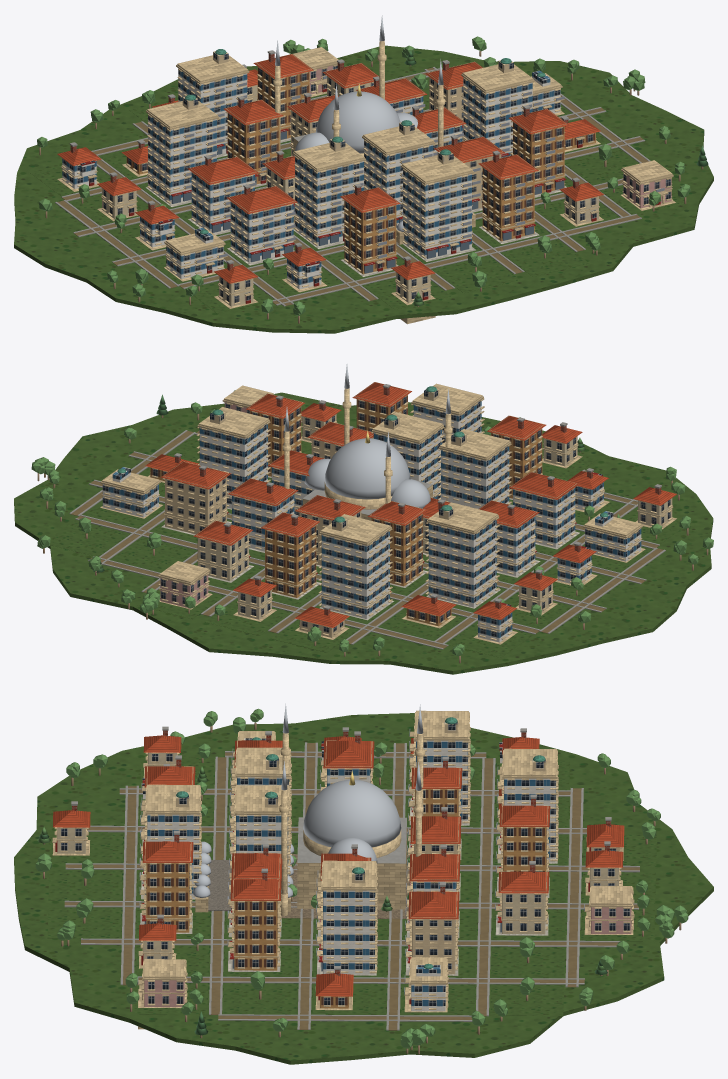
Rendered from city_orient_capital.gltf.
3 views of the same model, one above another, from view 1: azimuth 30°, elevation 25°; view 2: azimuth 150°, elevation 25°; view 3: azimuth 270°, elevation 25° (orthographic). The views are drawn at different scales.
Visible parts, largest first — view 1: city_orient_capital; view 2: city_orient_capital; view 3: city_orient_capital.
Part boxes in pixels (box(x1,y1,x2,y2)): city_orient_capital: box(14, 15, 713, 333); city_orient_capital: box(14, 364, 713, 674); city_orient_capital: box(14, 703, 713, 1064).
Bounding box in the file's own units: 5.73 × 1.35 × 4.88.
Materials: 23 (16 with a texture image).
